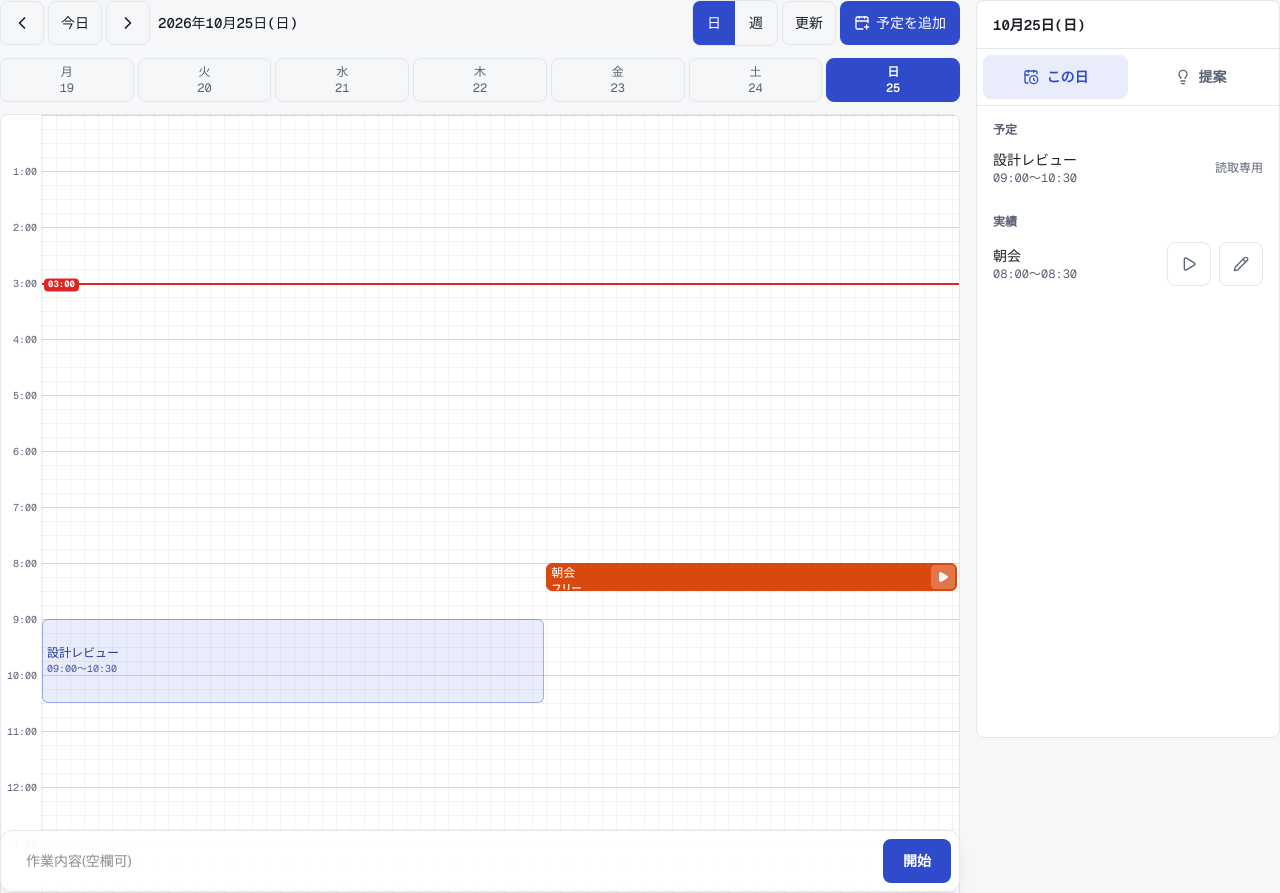
Test: 編集パネルの保存(S12/S13) › S13: 保存が失敗するとパネルが開いたままエラーが表示される
Click the button with aria-label "朝会の実績を編集(フリー)".
click(563, 573)  # box x1=546 y1=563 x2=957 y2=591
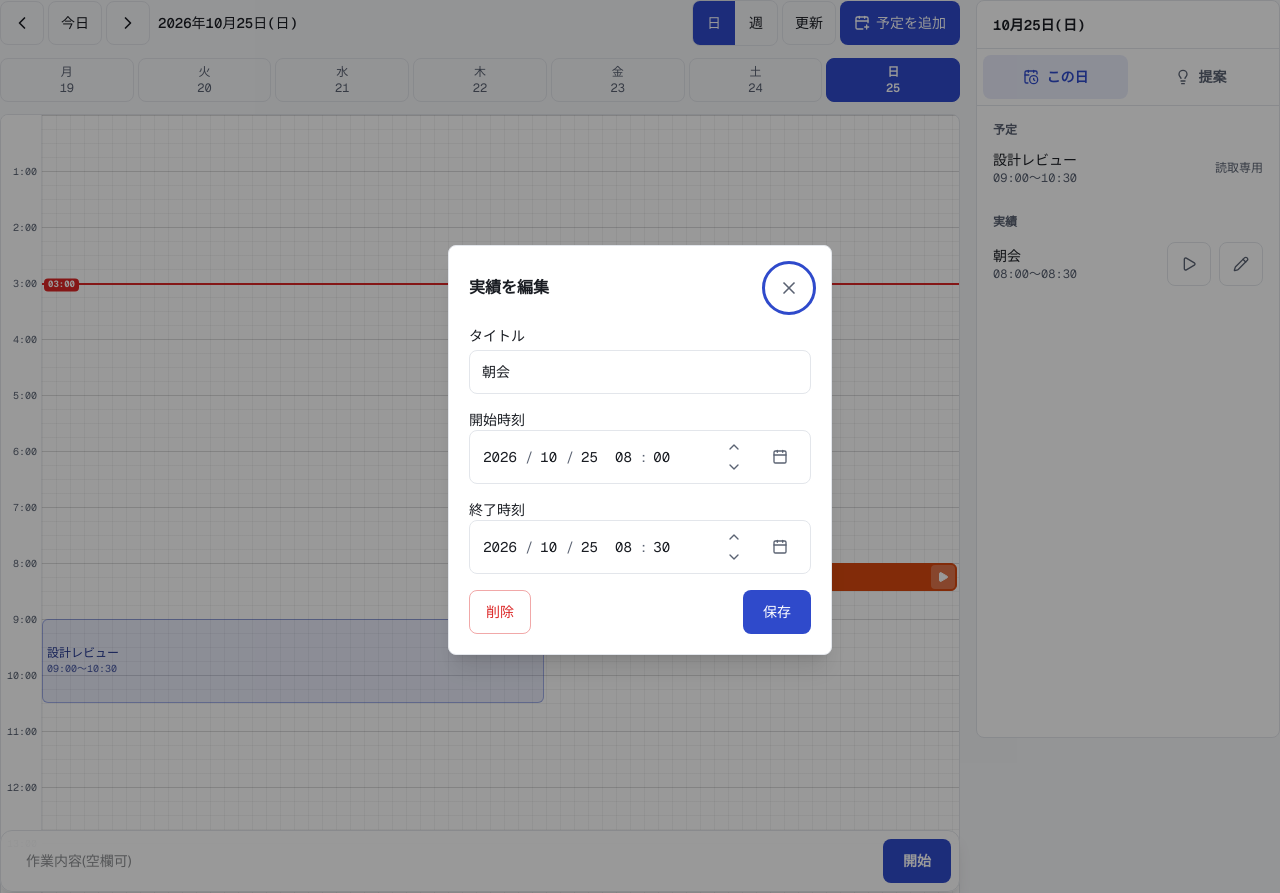
Click the button "保存".
click(777, 612)  # box x1=743 y1=590 x2=811 y2=634
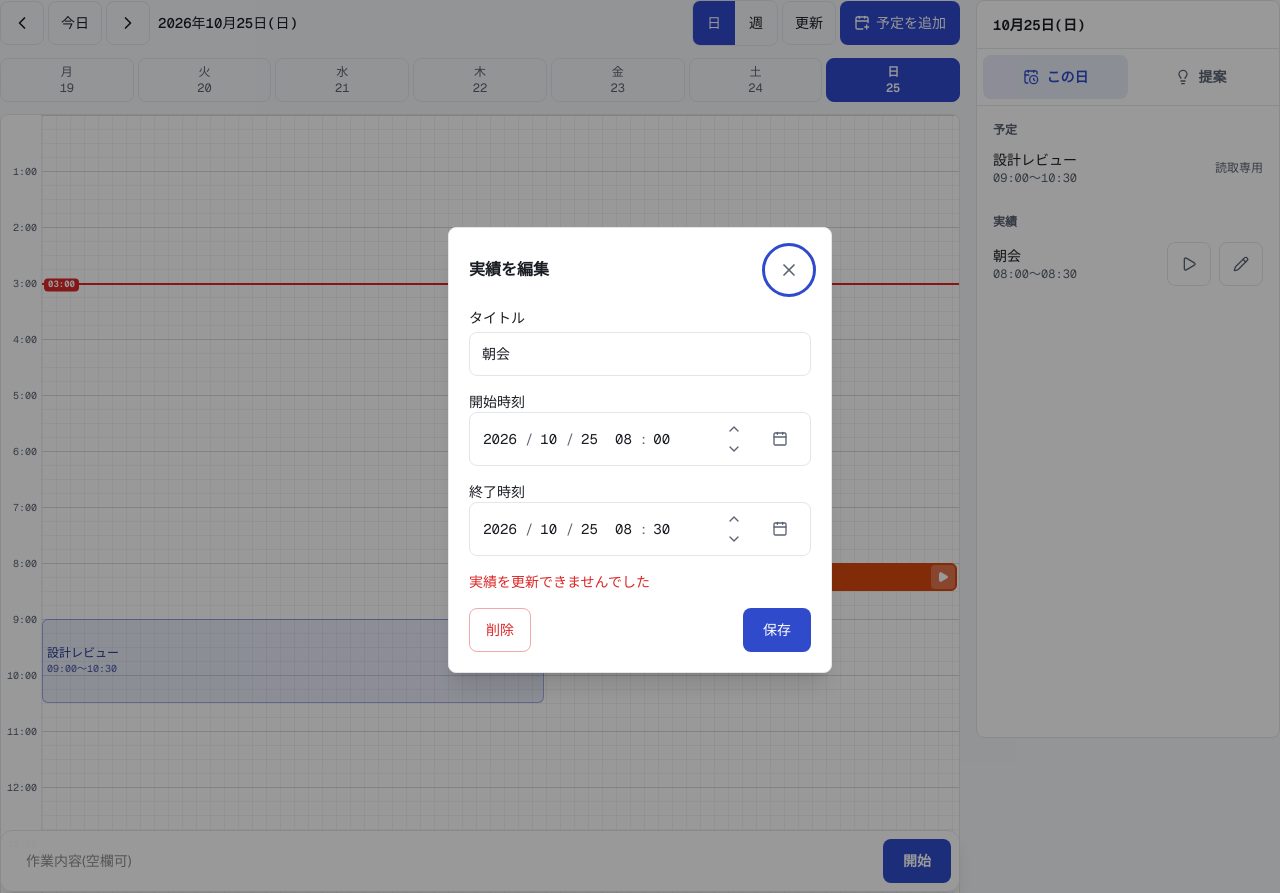
Result: the dialog is shown at x1=448 y1=227 x2=832 y2=673
Result: the text "実績を更新できませんでした" is shown at x1=469 y1=573 x2=650 y2=591
